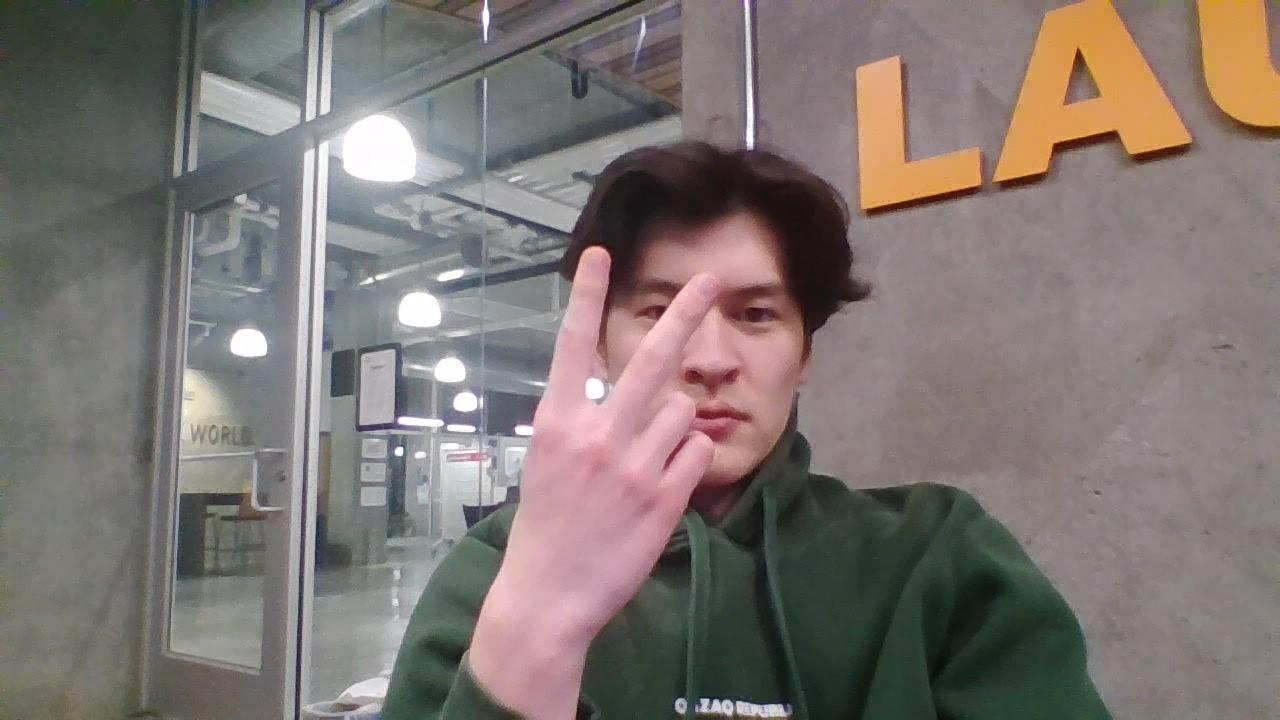peace: (511, 245, 719, 627)
